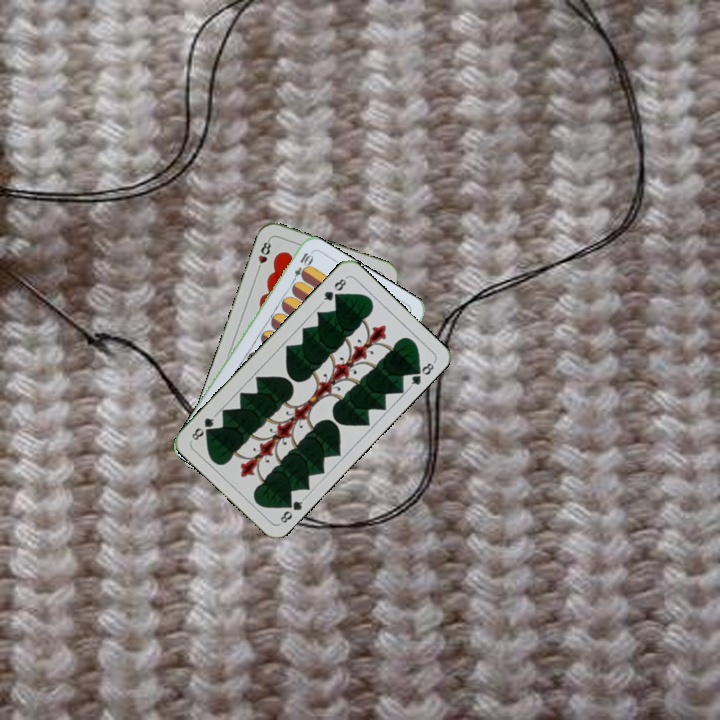E10: (287, 248, 314, 287)
G8: (318, 273, 350, 306), (276, 494, 308, 526)
H8: (253, 235, 274, 275)
